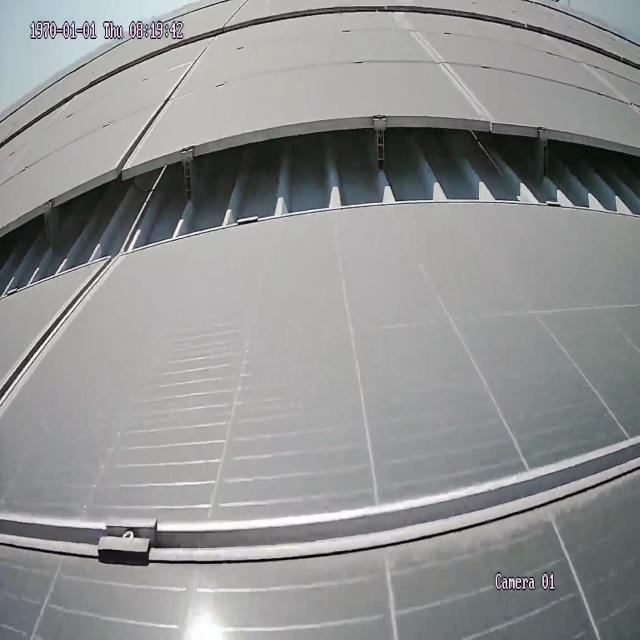interior panel: (3, 420, 636, 581), (4, 269, 105, 417), (115, 44, 214, 163), (394, 21, 495, 110)
outher panel: (0, 118, 638, 299)
